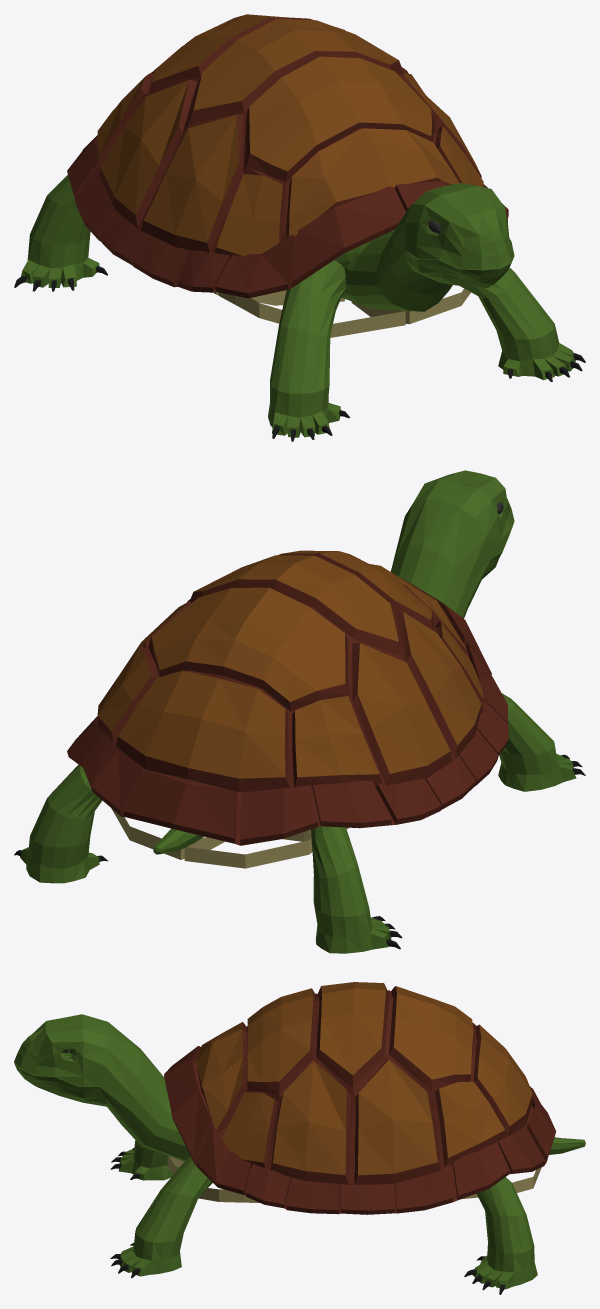
Rendered from turtle.glb.
3 views of the same model, one above another, from view 1: azimuth 30°, elevation 25°; view 2: azimuth 150°, elevation 25°; view 3: azimuth 270°, elevation 25° (orthographic). The views are drawn at different scales.
Visible parts, largest first — view 1: Node; view 2: Node; view 3: Node.
Part boxes in pixels (left/top/right/bottom): Node: left=14, top=14, right=585, bottom=441; Node: left=14, top=470, right=585, bottom=953; Node: left=14, top=982, right=585, bottom=1294.
Bounding box in the file's own units: 14.02 × 9.54 × 21.62.
